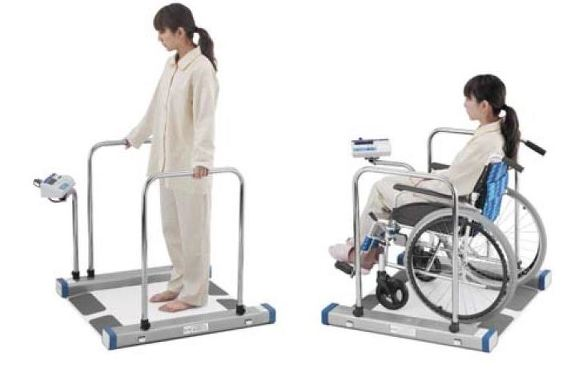wheelchair: (329, 75, 547, 318)
